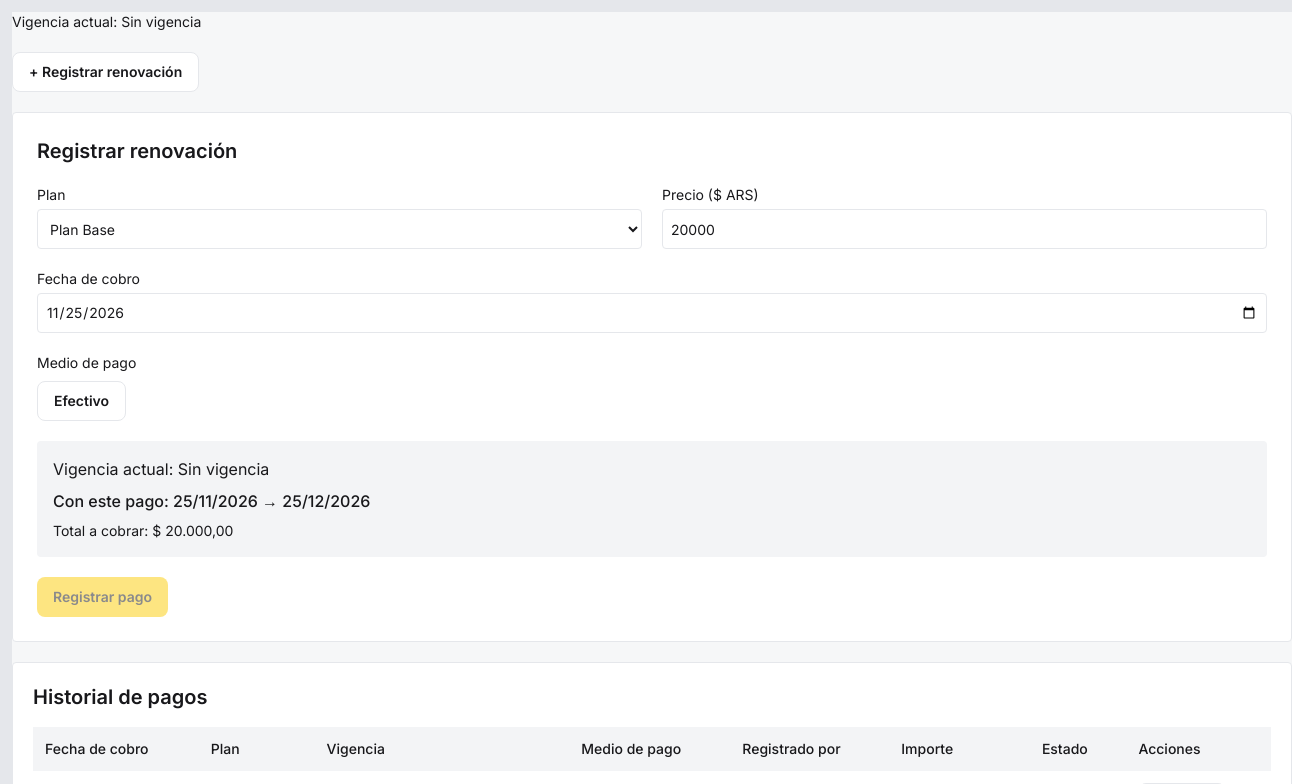
previews the entire continuous chain and recalculates when the cash date changes
Type "2026-11-10" into the date field labelled "Fecha de cobro" at point(652, 313), box [37,293,1267,333]
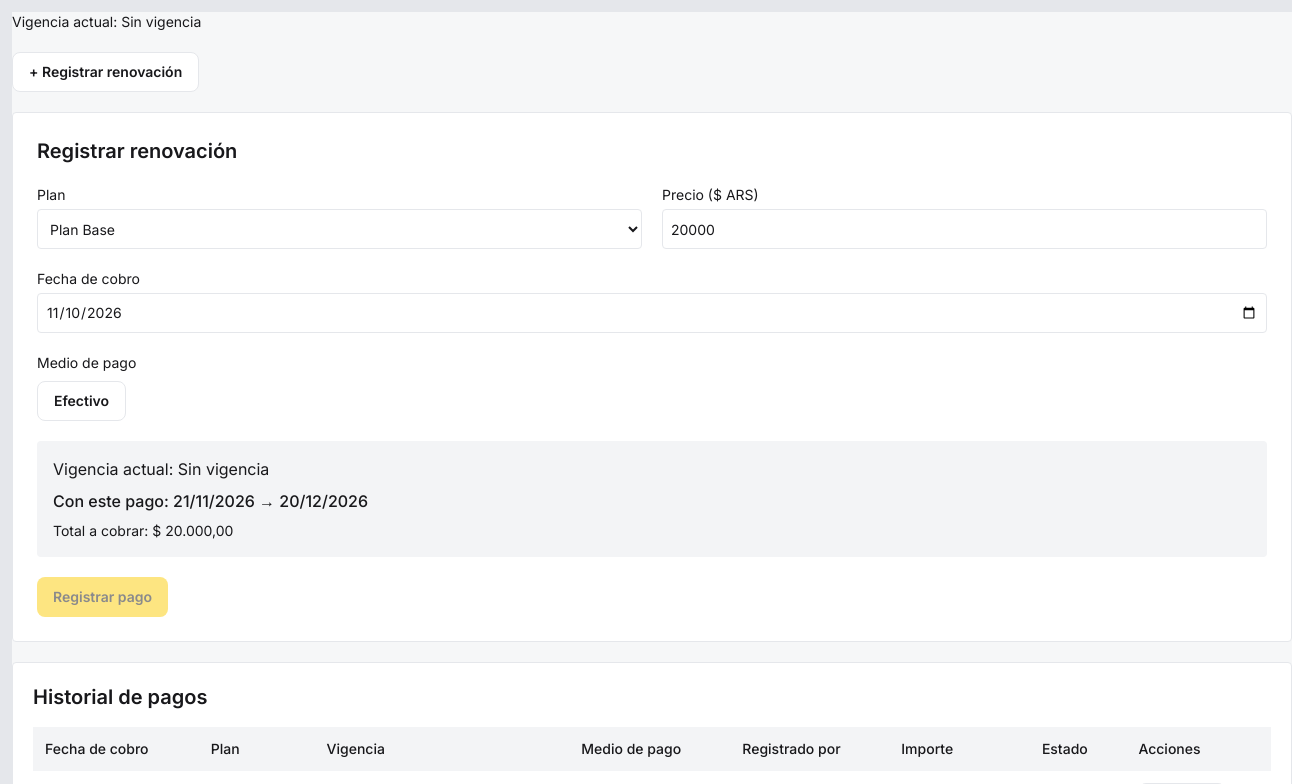
Expected: the text "Con este pago: 21/11/2026 → 20/12/2026" is shown, [53,491,368,511]
Type "2026-11-25" into the date field labelled "Fecha de cobro" at point(652, 313), box [37,293,1267,333]
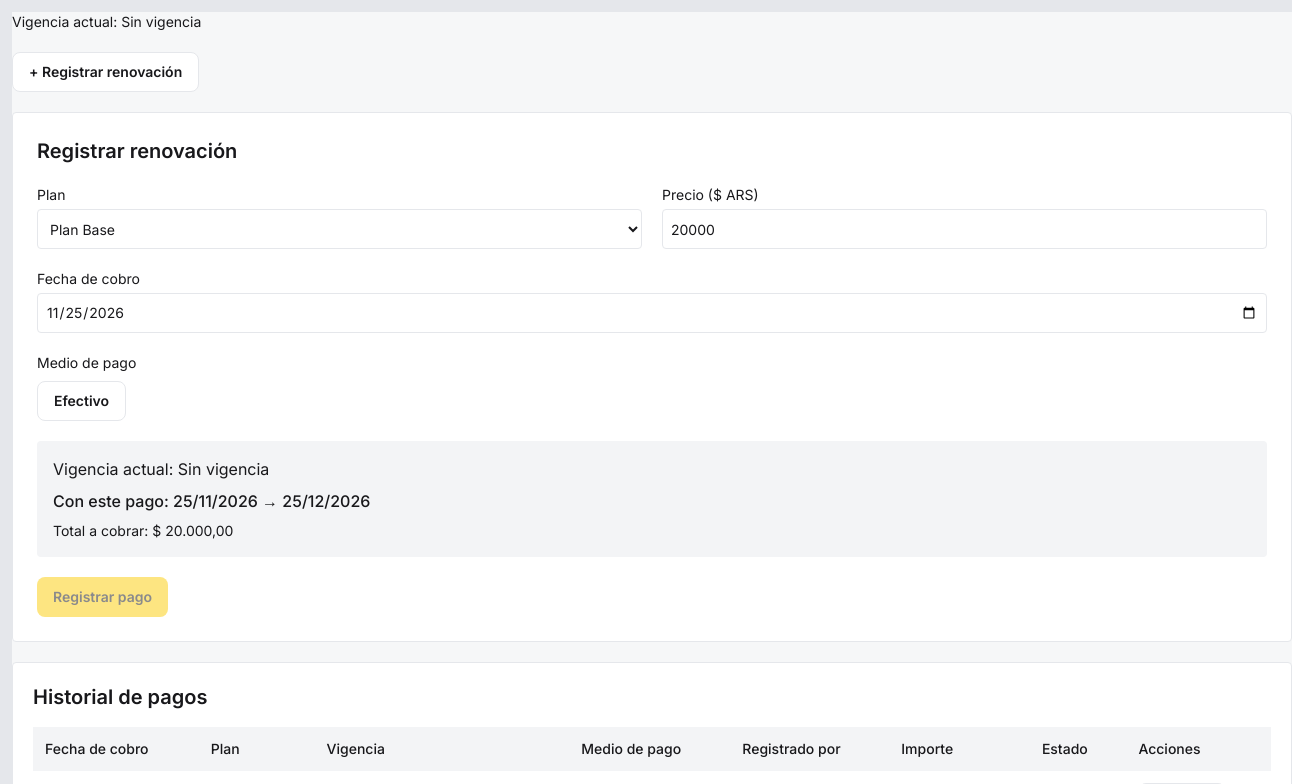
Expected: the text "Con este pago: 25/11/2026 → 25/12/2026" is shown, [53,491,370,511]
